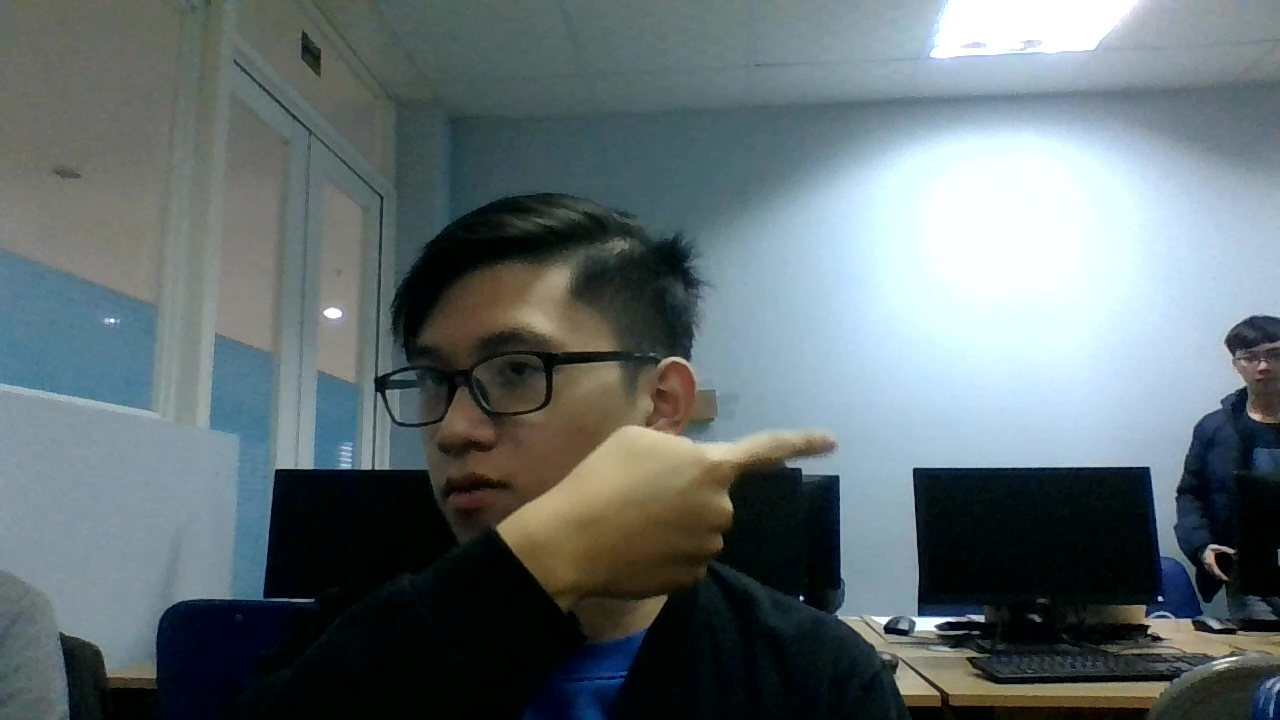left: (551, 419, 845, 604)
